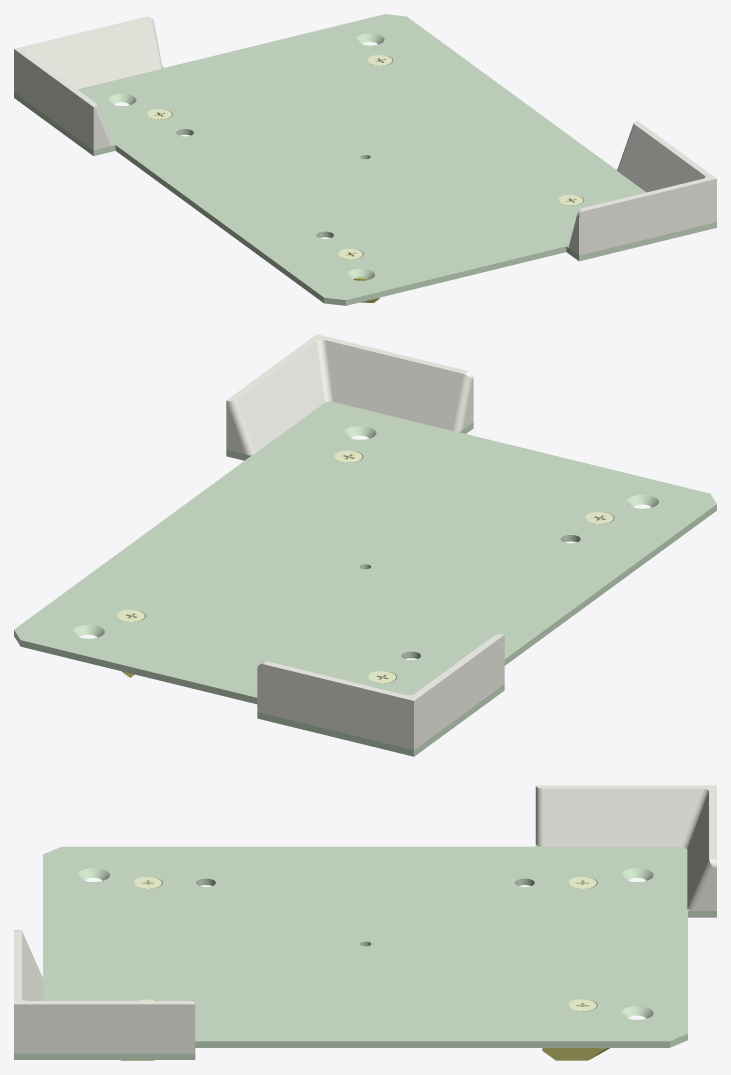
Rendered from Plate.fbx.
3 views of the same model, one above another, from view 1: azimuth 30°, elevation 25°; view 2: azimuth 150°, elevation 25°; view 3: azimuth 270°, elevation 25° (orthographic). The views are drawn at different scales.
Visible parts, largest first — view 1: BasePlate; view 2: BasePlate; view 3: BasePlate.
Boxes of the visible parts, left/top/right/bottom form: BasePlate: left=14, top=14, right=716, bottom=305; BasePlate: left=14, top=334, right=716, bottom=756; BasePlate: left=14, top=785, right=716, bottom=1060.
Bounding box in the file's own units: 14.3 × 3 × 19.4.
